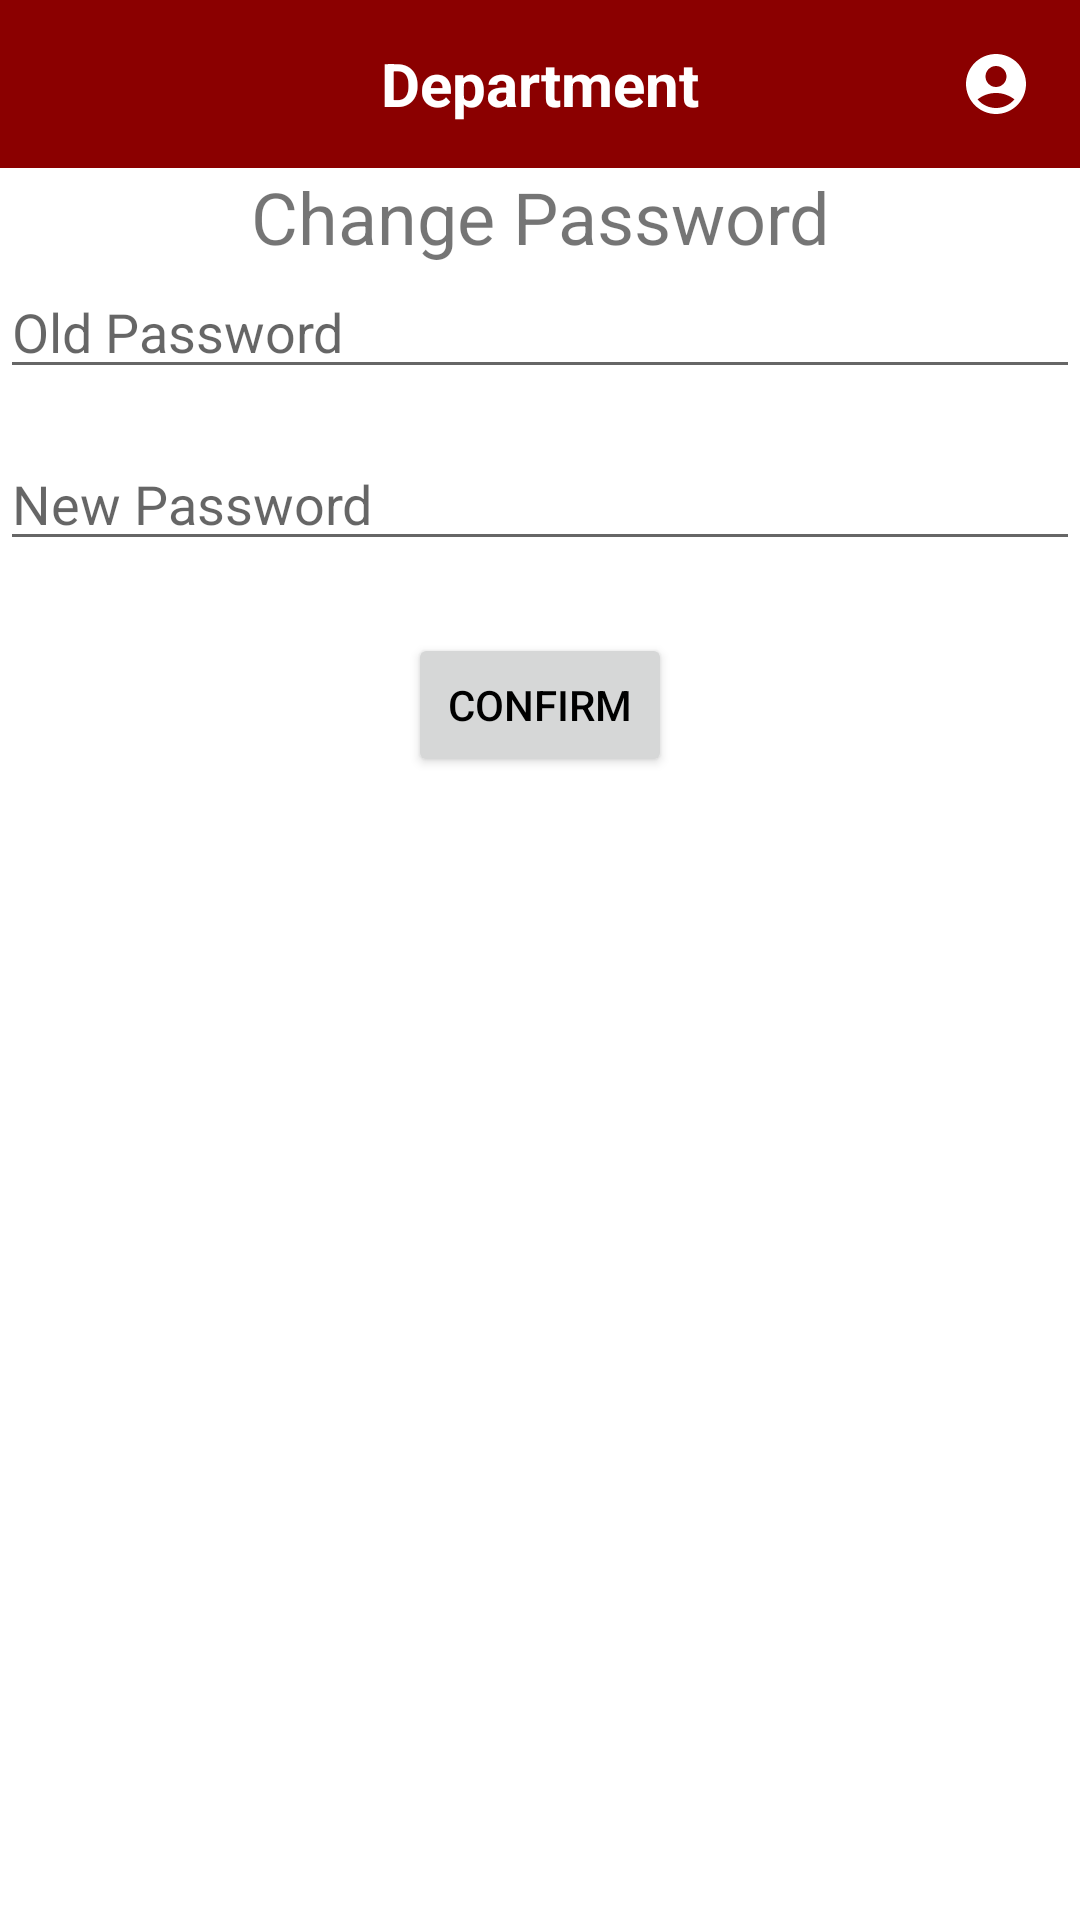

Icons on this 1080×1920 Android screen, each with its box as [x1=x1, y1=y1, x2=x2, y2=y2]:
account circle: [x1=966, y1=54, x2=1026, y2=114]
